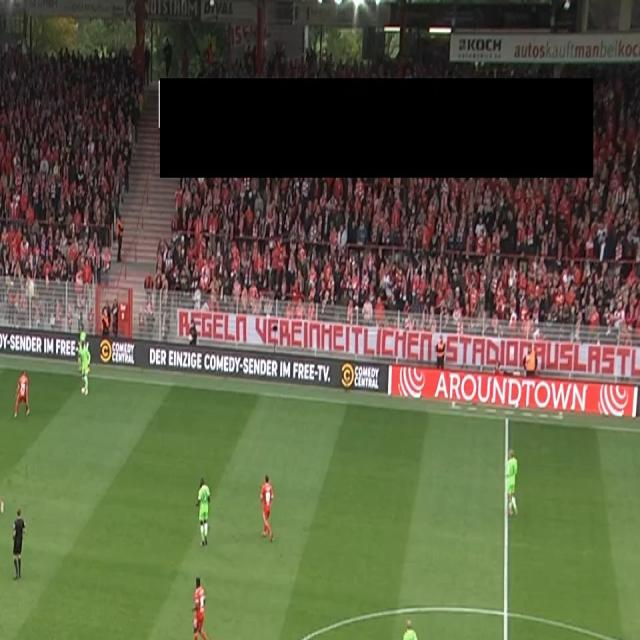ball: (80, 385, 86, 396)
